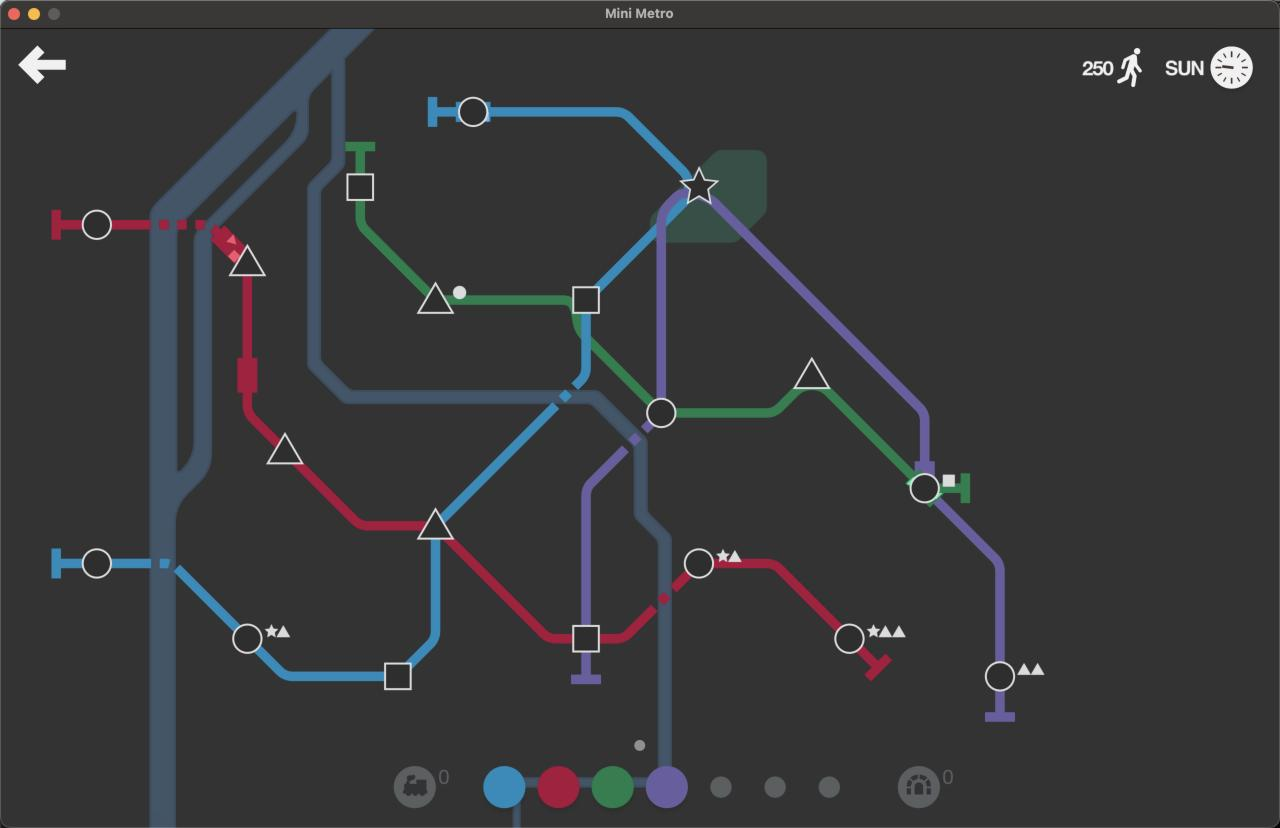CIRCLE: (908, 471, 941, 505), (645, 396, 677, 430), (457, 96, 490, 128), (984, 660, 1016, 692), (232, 622, 263, 654), (834, 623, 865, 655), (683, 547, 714, 579), (82, 547, 112, 579), (82, 208, 112, 240)
SQUARE: (571, 623, 601, 654), (345, 172, 375, 202), (383, 661, 413, 691), (571, 285, 601, 314)
STAR: (678, 165, 720, 205)
TRIANGLE: (415, 280, 456, 316), (416, 506, 456, 542), (227, 243, 267, 278), (266, 431, 304, 467), (793, 356, 831, 390)
